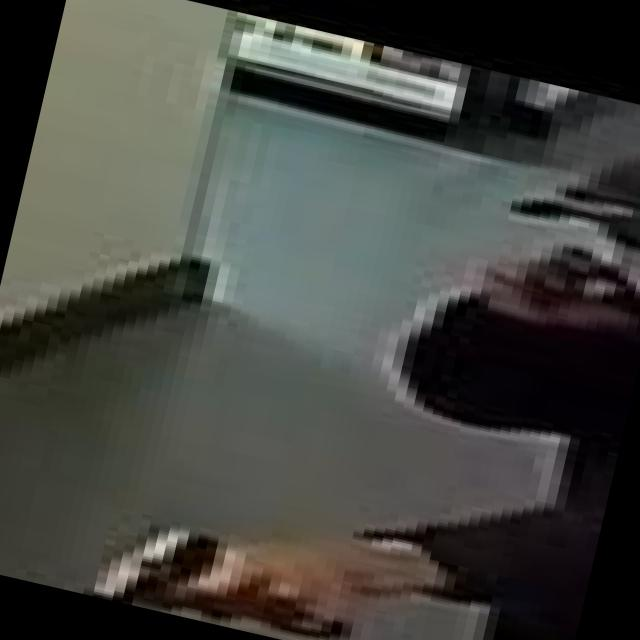Guns: (4, 471, 437, 640)
